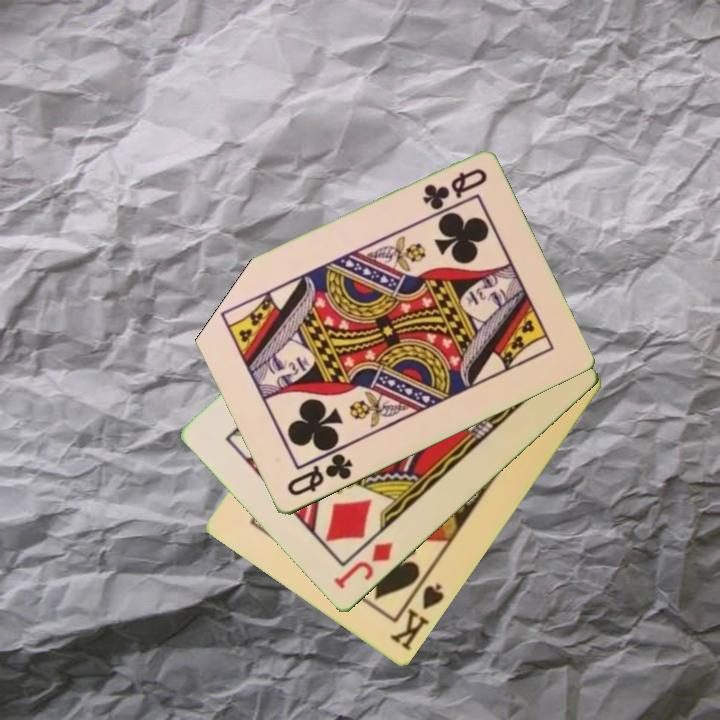Jd: (330, 539, 396, 593)
Ks: (386, 580, 448, 655)
Qc: (283, 450, 356, 500), (419, 165, 490, 213)
